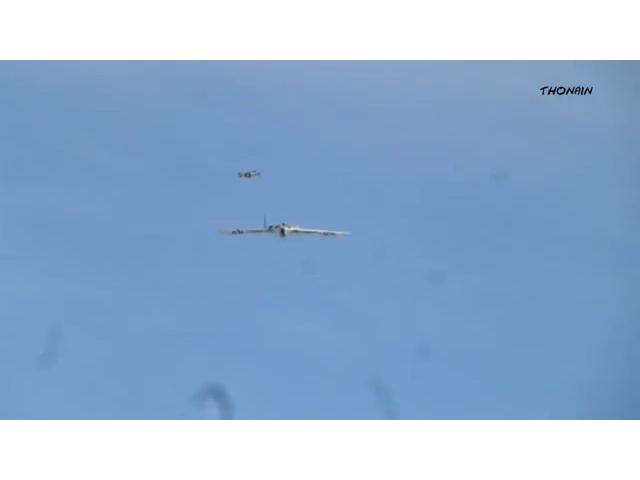Anti-Drone: (191, 199, 367, 263)
